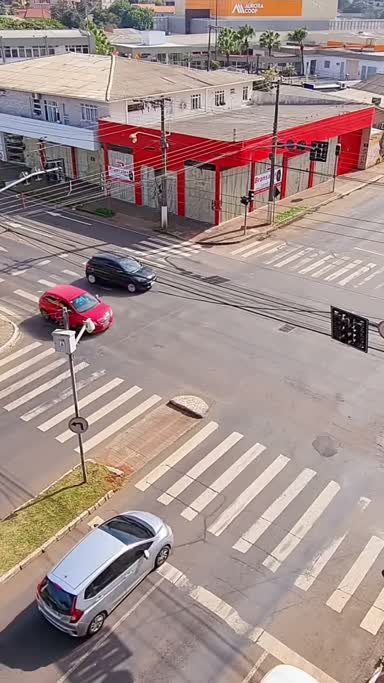car: (27, 501, 178, 639), (31, 279, 118, 346), (79, 243, 161, 300)
